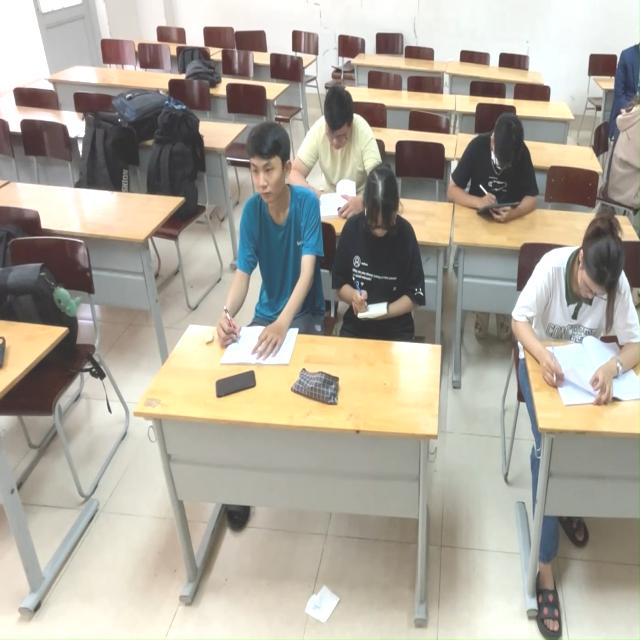read: (209, 133, 313, 375), (513, 208, 640, 406), (329, 184, 429, 343), (442, 101, 542, 234), (298, 85, 375, 221)
